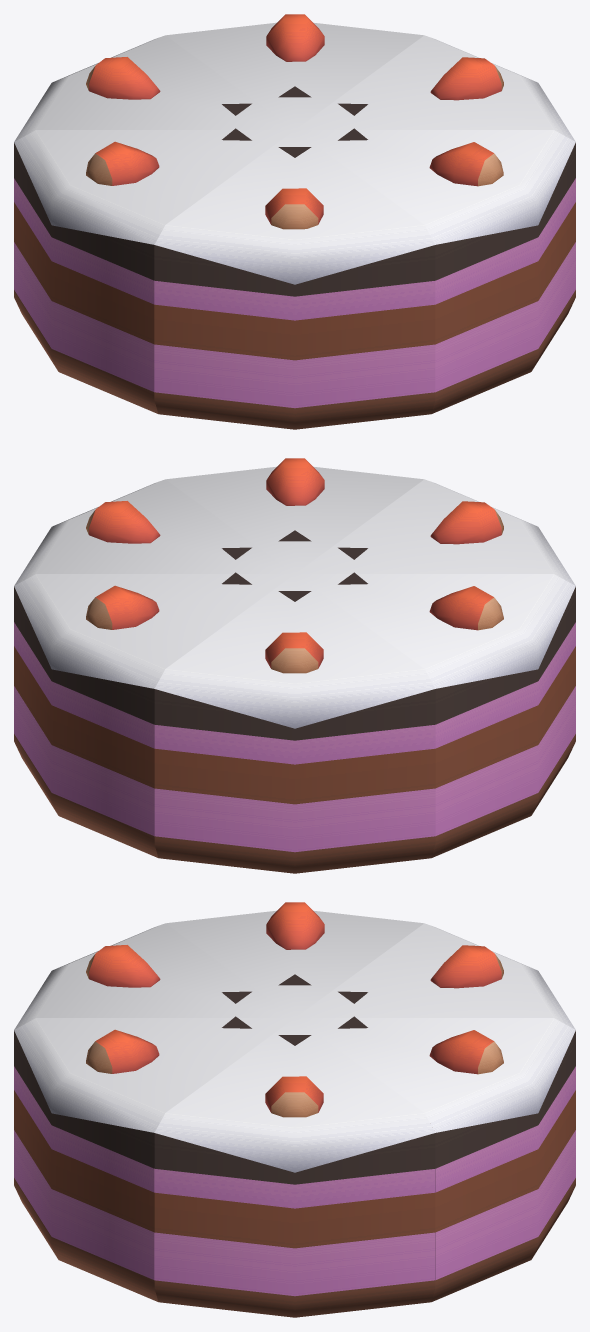
File: kf_cake.glb
3 renders of one model, top to bottom at view 1: azimuth 30°, elevation 25°; view 2: azimuth 150°, elevation 25°; view 3: azimuth 270°, elevation 25°, orthographic.
Visible parts, largest first — view 1: slice; view 2: slice; view 3: slice.
Part boxes in pixels (x1,y1,x2,y2): slice: (14, 14, 575, 429); slice: (14, 458, 575, 873); slice: (14, 902, 575, 1317).
Bounding box in the file's own units: 0.1863 × 0.0796 × 0.1863.
1 material, 1 textured.
